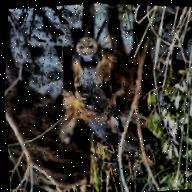boar: (56, 6, 192, 176)
